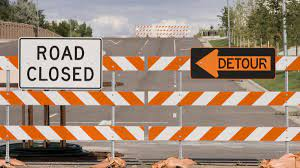obstacle: (1, 35, 300, 168)
